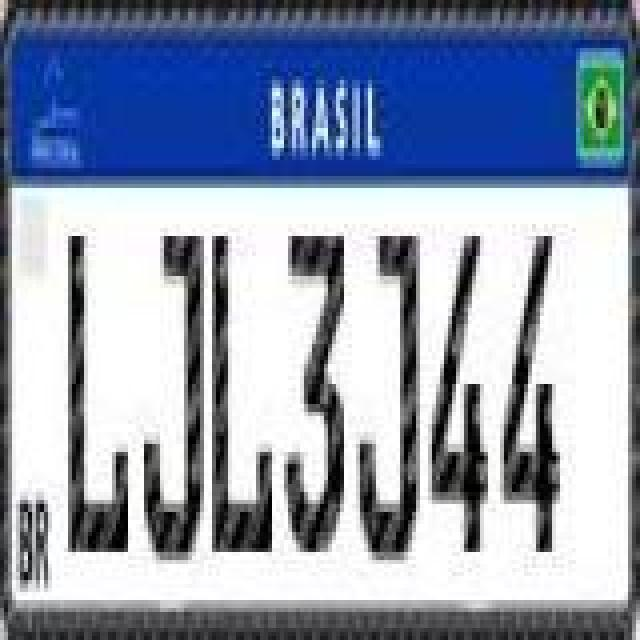3: (280, 224, 344, 560)
4: (426, 230, 486, 554), (498, 230, 558, 554)
J: (144, 224, 208, 560), (356, 232, 420, 568)
L: (208, 230, 272, 554), (66, 230, 126, 554)
